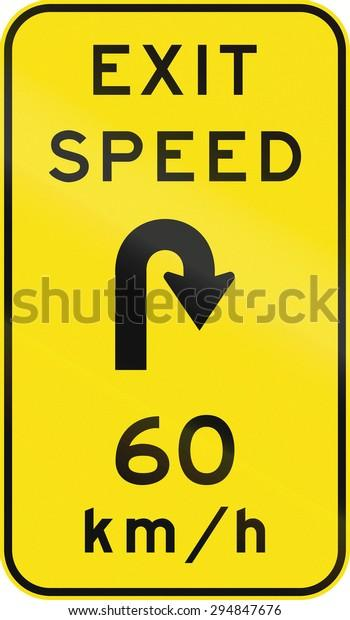Right Hair Pin Bend: (52, 216, 294, 398)
